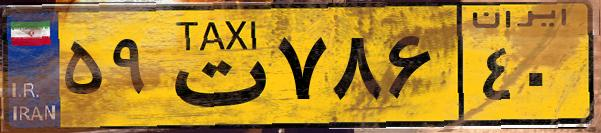0: (525, 38, 570, 115)
4: (475, 38, 525, 113)
5: (57, 26, 110, 100)
6: (385, 28, 445, 110)
7: (270, 28, 330, 110)
8: (330, 28, 385, 110)
9: (110, 28, 158, 98)
ت: (158, 12, 270, 120)
